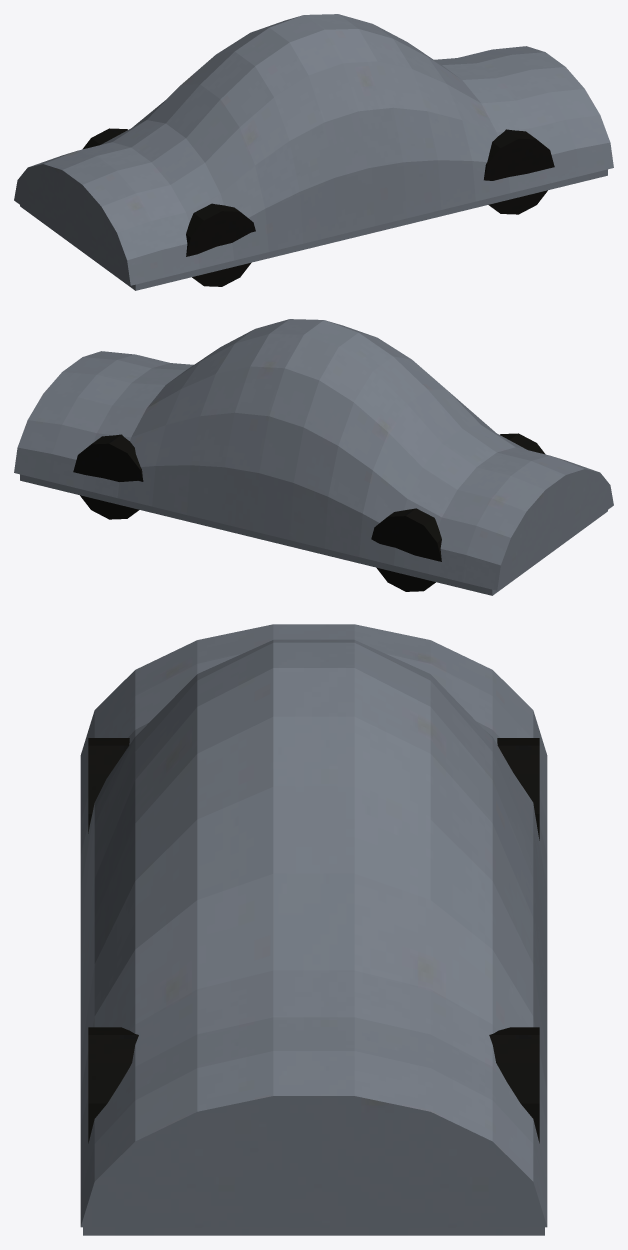
Rendered from covered_car_01.glb.
3 renders of one model, top to bottom at view 1: azimuth 30°, elevation 25°; view 2: azimuth 150°, elevation 25°; view 3: azimuth 270°, elevation 25°, orthographic. The views are drawn at different scales.
Parts seen in each view (by area): view 1: covered_car_01; view 2: covered_car_01; view 3: covered_car_01.
Boxes of the visible parts, box(x1,y1,x2,y2) form: covered_car_01: box(14, 14, 613, 290); covered_car_01: box(14, 319, 613, 595); covered_car_01: box(80, 624, 547, 1235).
Bounding box in the file's own units: 4.4 × 1.63 × 1.84.
2 materials, 2 textured.
